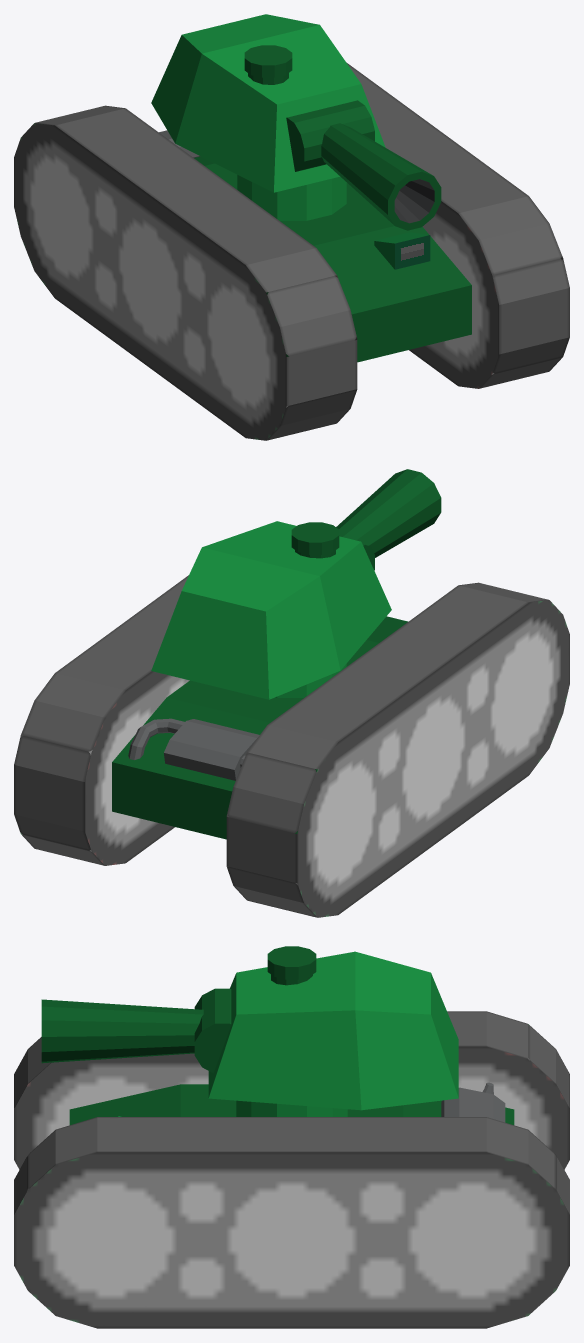
The model's file is PlayerTank.fbx.
3 views of the same model, one above another, from view 1: azimuth 30°, elevation 25°; view 2: azimuth 150°, elevation 25°; view 3: azimuth 270°, elevation 25° (orthographic).
Parts seen in each view (by area): view 1: RightTrack, LeftTrack, Hull_2, Hull, Gun, Seat, Mask, CommanderLookout, DriverWindow; view 2: RightTrack, Hull_2, LeftTrack, Hull, Gun, Exhaust, CommanderLookout; view 3: LeftTrack, Hull_2, RightTrack, Gun, Hull, Mask, CommanderLookout, Exhaust, Seat.
Part boxes in pixels (x1,y1,x2,y2): RightTrack: (14,105,357,440); LeftTrack: (346,62,569,388); Hull_2: (151,14,385,192); Hull: (194,156,471,362); Gun: (321,123,441,230); Seat: (237,175,346,220); Mask: (286,100,374,171); CommanderLookout: (244,45,292,84); DriverWindow: (374,232,430,269); RightTrack: (226,582,569,917); Hull_2: (151,521,391,699); LeftTrack: (14,575,189,865); Hull: (112,616,407,839); Gun: (336,469,441,557); Exhaust: (128,718,259,780); CommanderLookout: (291,522,339,558); LeftTrack: (14,1117,569,1328); Hull_2: (208,951,458,1110); RightTrack: (14,1011,569,1169); Gun: (41,999,203,1063); Hull: (69,1084,514,1124); Mask: (194,988,231,1073); CommanderLookout: (267,946,316,985); Exhaust: (441,1082,505,1122); Seat: (236,1100,347,1116).
Size of the model in its own units: 150 by 144 by 250.
6 materials, 6 textured.
